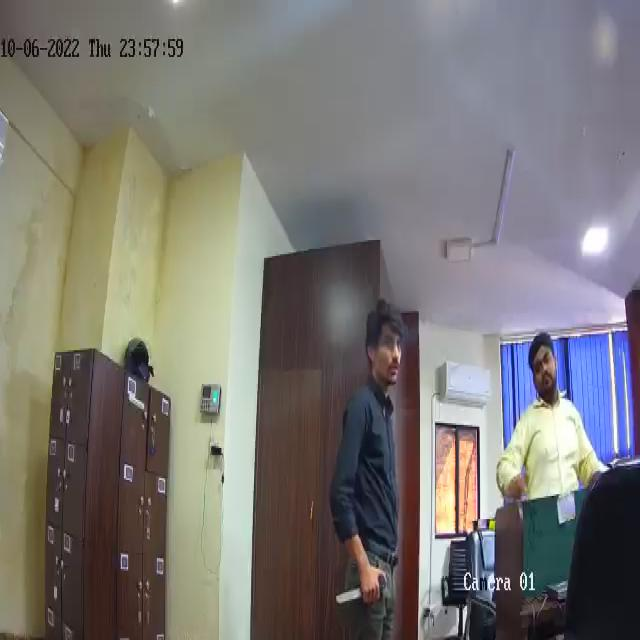Knife: (334, 567, 386, 615)
